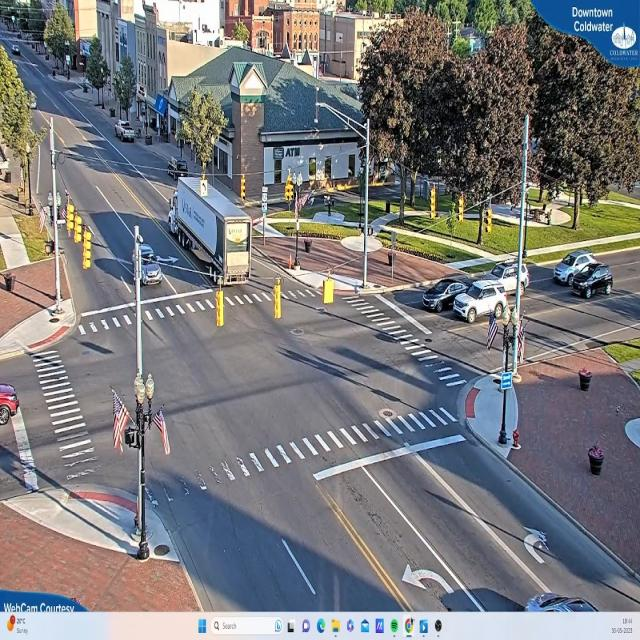car: (452, 284, 512, 325), (421, 279, 476, 312), (477, 264, 532, 296), (554, 251, 601, 285), (130, 241, 162, 290), (572, 265, 614, 300), (526, 594, 600, 613), (1, 384, 22, 424), (117, 122, 137, 144)
truck: (168, 182, 256, 293)
